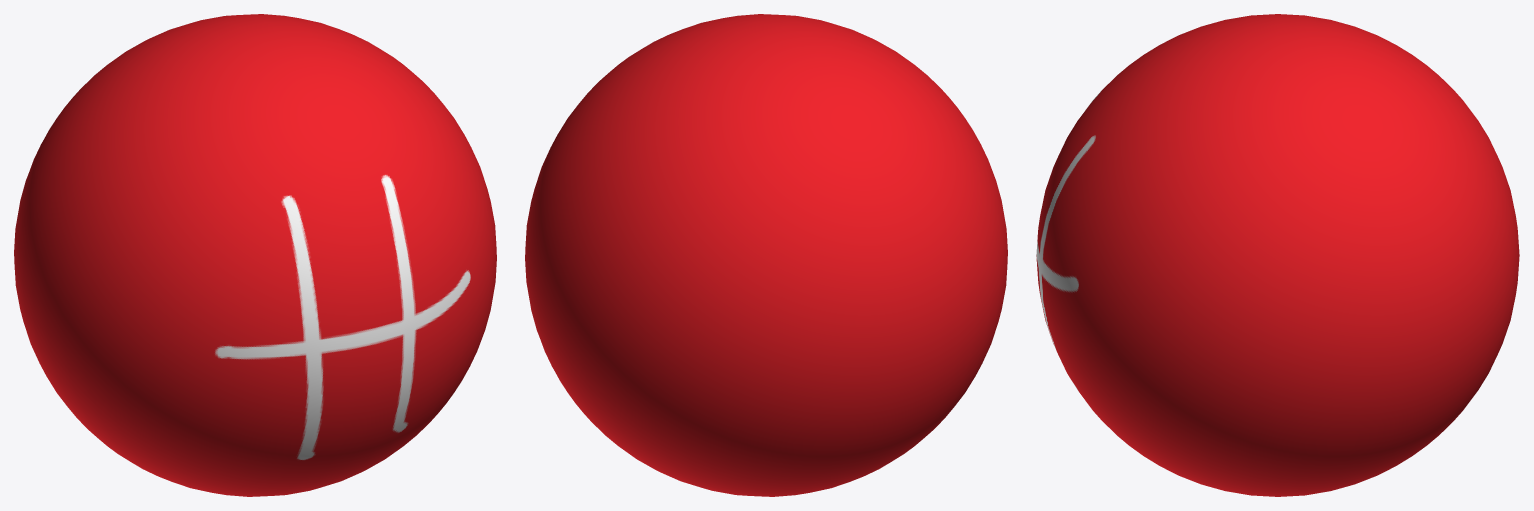
The model's file is hydrogen.gltf.
3 views of the same model, side by side, from view 1: azimuth 30°, elevation 25°; view 2: azimuth 150°, elevation 25°; view 3: azimuth 270°, elevation 25° (orthographic).
Parts seen in each view (by area): view 1: mesh_id27; view 2: mesh_id27; view 3: mesh_id27.
Part boxes in pixels (left/top/right/bottom): mesh_id27: left=14, top=14, right=496, bottom=496; mesh_id27: left=525, top=14, right=1007, bottom=496; mesh_id27: left=1036, top=14, right=1519, bottom=496.
Bounding box in the file's own units: 0.2717 × 0.2717 × 0.2717.
1 material, 1 textured.
